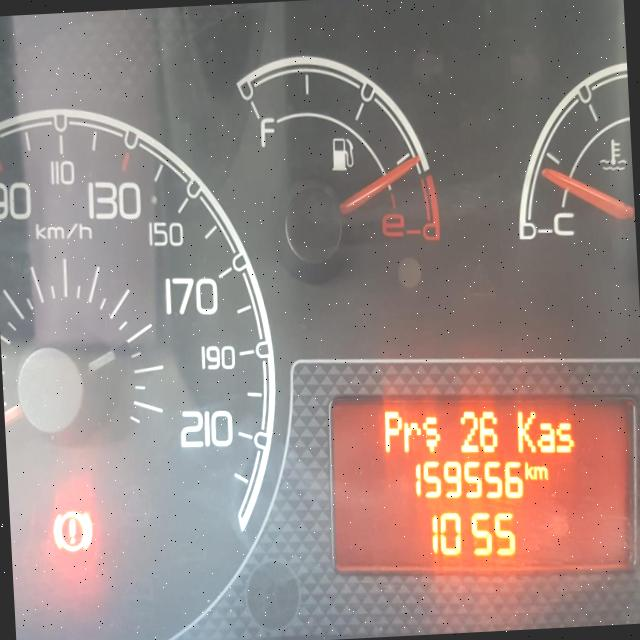odometer: (321, 378, 640, 589)
